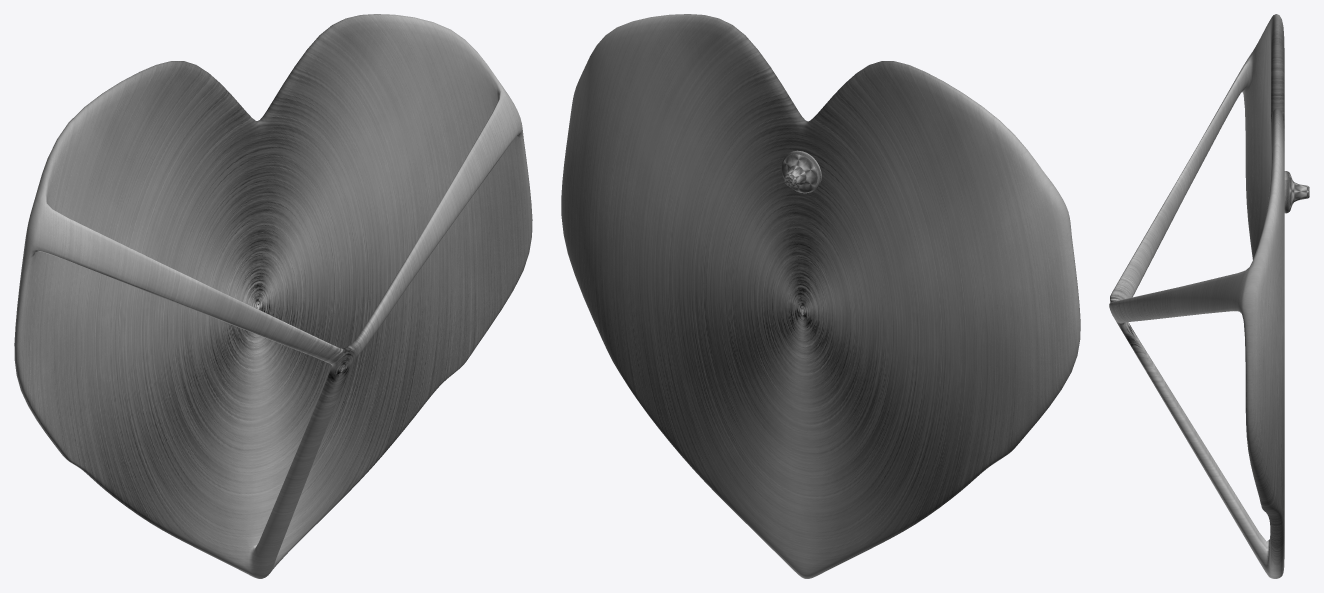
The model's file is Silverhearteearring.fbx.
3 views of the same model, side by side, from view 1: azimuth 30°, elevation 25°; view 2: azimuth 150°, elevation 25°; view 3: azimuth 270°, elevation 25° (orthographic). The views are drawn at different scales.
Parts seen in each view (by area): view 1: SILVER_SHIELD_Y_HEART_EARRINGS2; view 2: SILVER_SHIELD_Y_HEART_EARRINGS2, pCylinder1; view 3: SILVER_SHIELD_Y_HEART_EARRINGS2, pCylinder1.
Part boxes in pixels (x1=…): SILVER_SHIELD_Y_HEART_EARRINGS2: x1=14, y1=14, x2=532, y2=578; SILVER_SHIELD_Y_HEART_EARRINGS2: x1=561, y1=14, x2=1080, y2=578; pCylinder1: x1=781, y1=150, x2=821, y2=193; SILVER_SHIELD_Y_HEART_EARRINGS2: x1=1109, y1=14, x2=1284, y2=578; pCylinder1: x1=1284, y1=171, x2=1309, y2=213.
Bounding box in the file's own units: 4.1 × 4.08 × 1.46.
